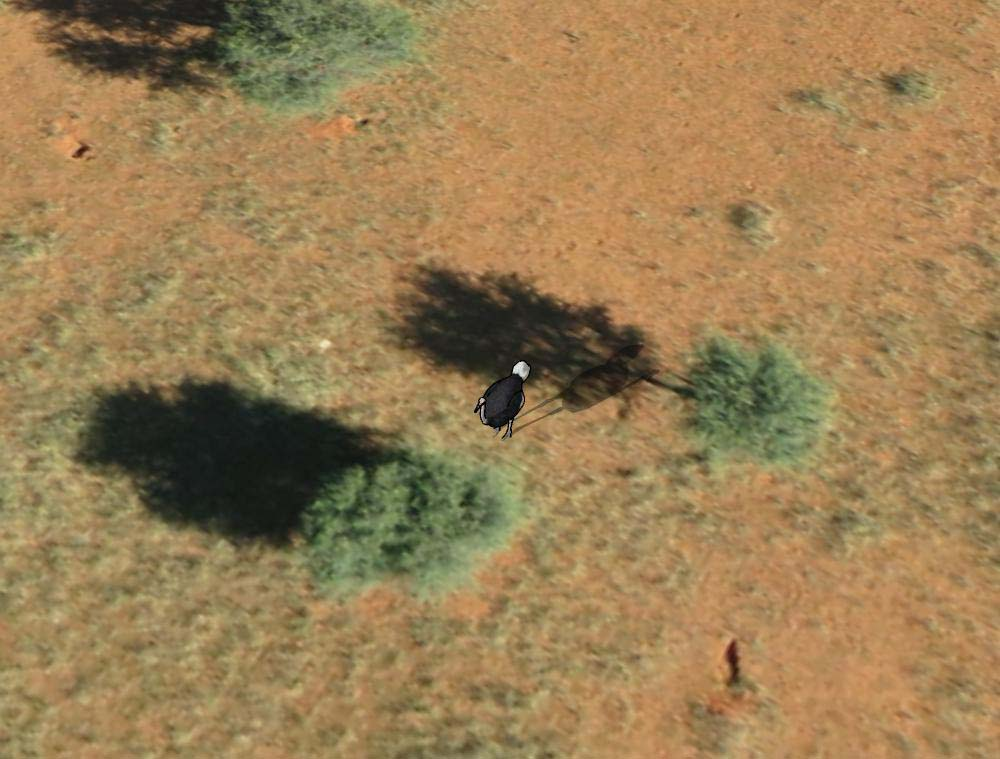ostrich: (472, 359, 538, 437)
